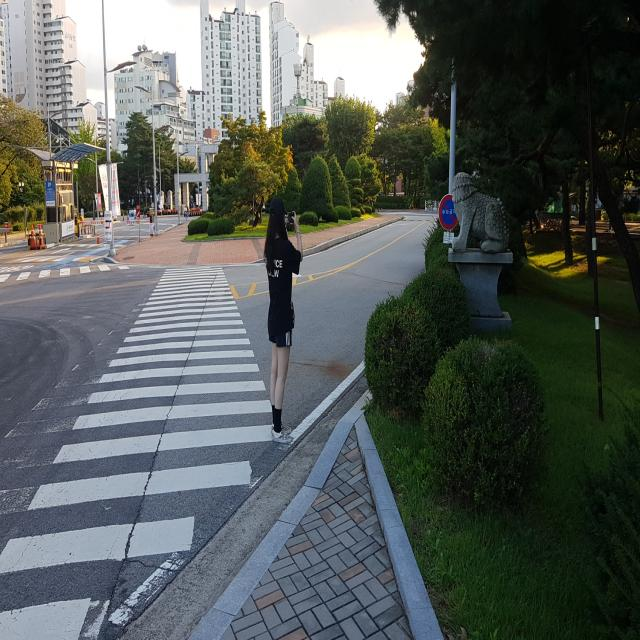횡단보도: (0, 263, 274, 640)
